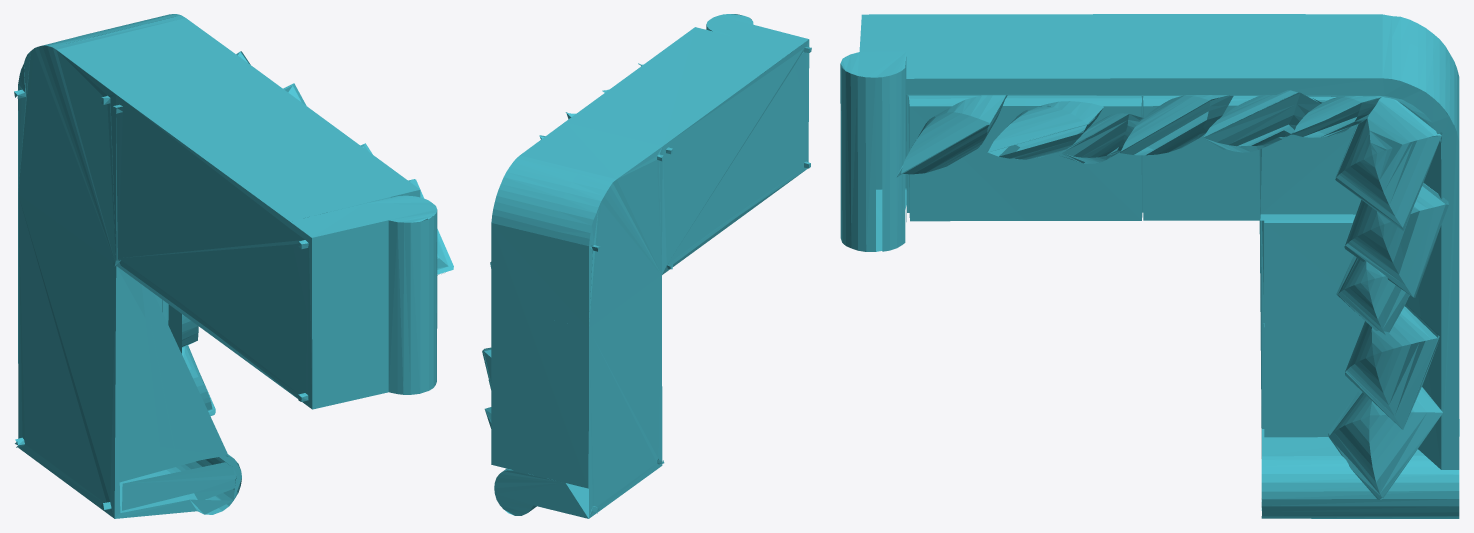
3 renders of one model, left to right at view 1: azimuth 30°, elevation 25°; view 2: azimuth 150°, elevation 25°; view 3: azimuth 270°, elevation 25°, orthographic. The views are drawn at different scales.
Visible parts, largest first — view 1: Renderer Node; view 2: Renderer Node; view 3: Renderer Node.
Boxes of the visible parts, <box> form: Renderer Node: <box>14,14,453,518</box>; Renderer Node: <box>482,14,811,518</box>; Renderer Node: <box>840,14,1459,518</box>.
Bounding box in the file's own units: 0.2485 × 0.6094 × 0.7541.
Materials: 1 (1 with a texture image).
